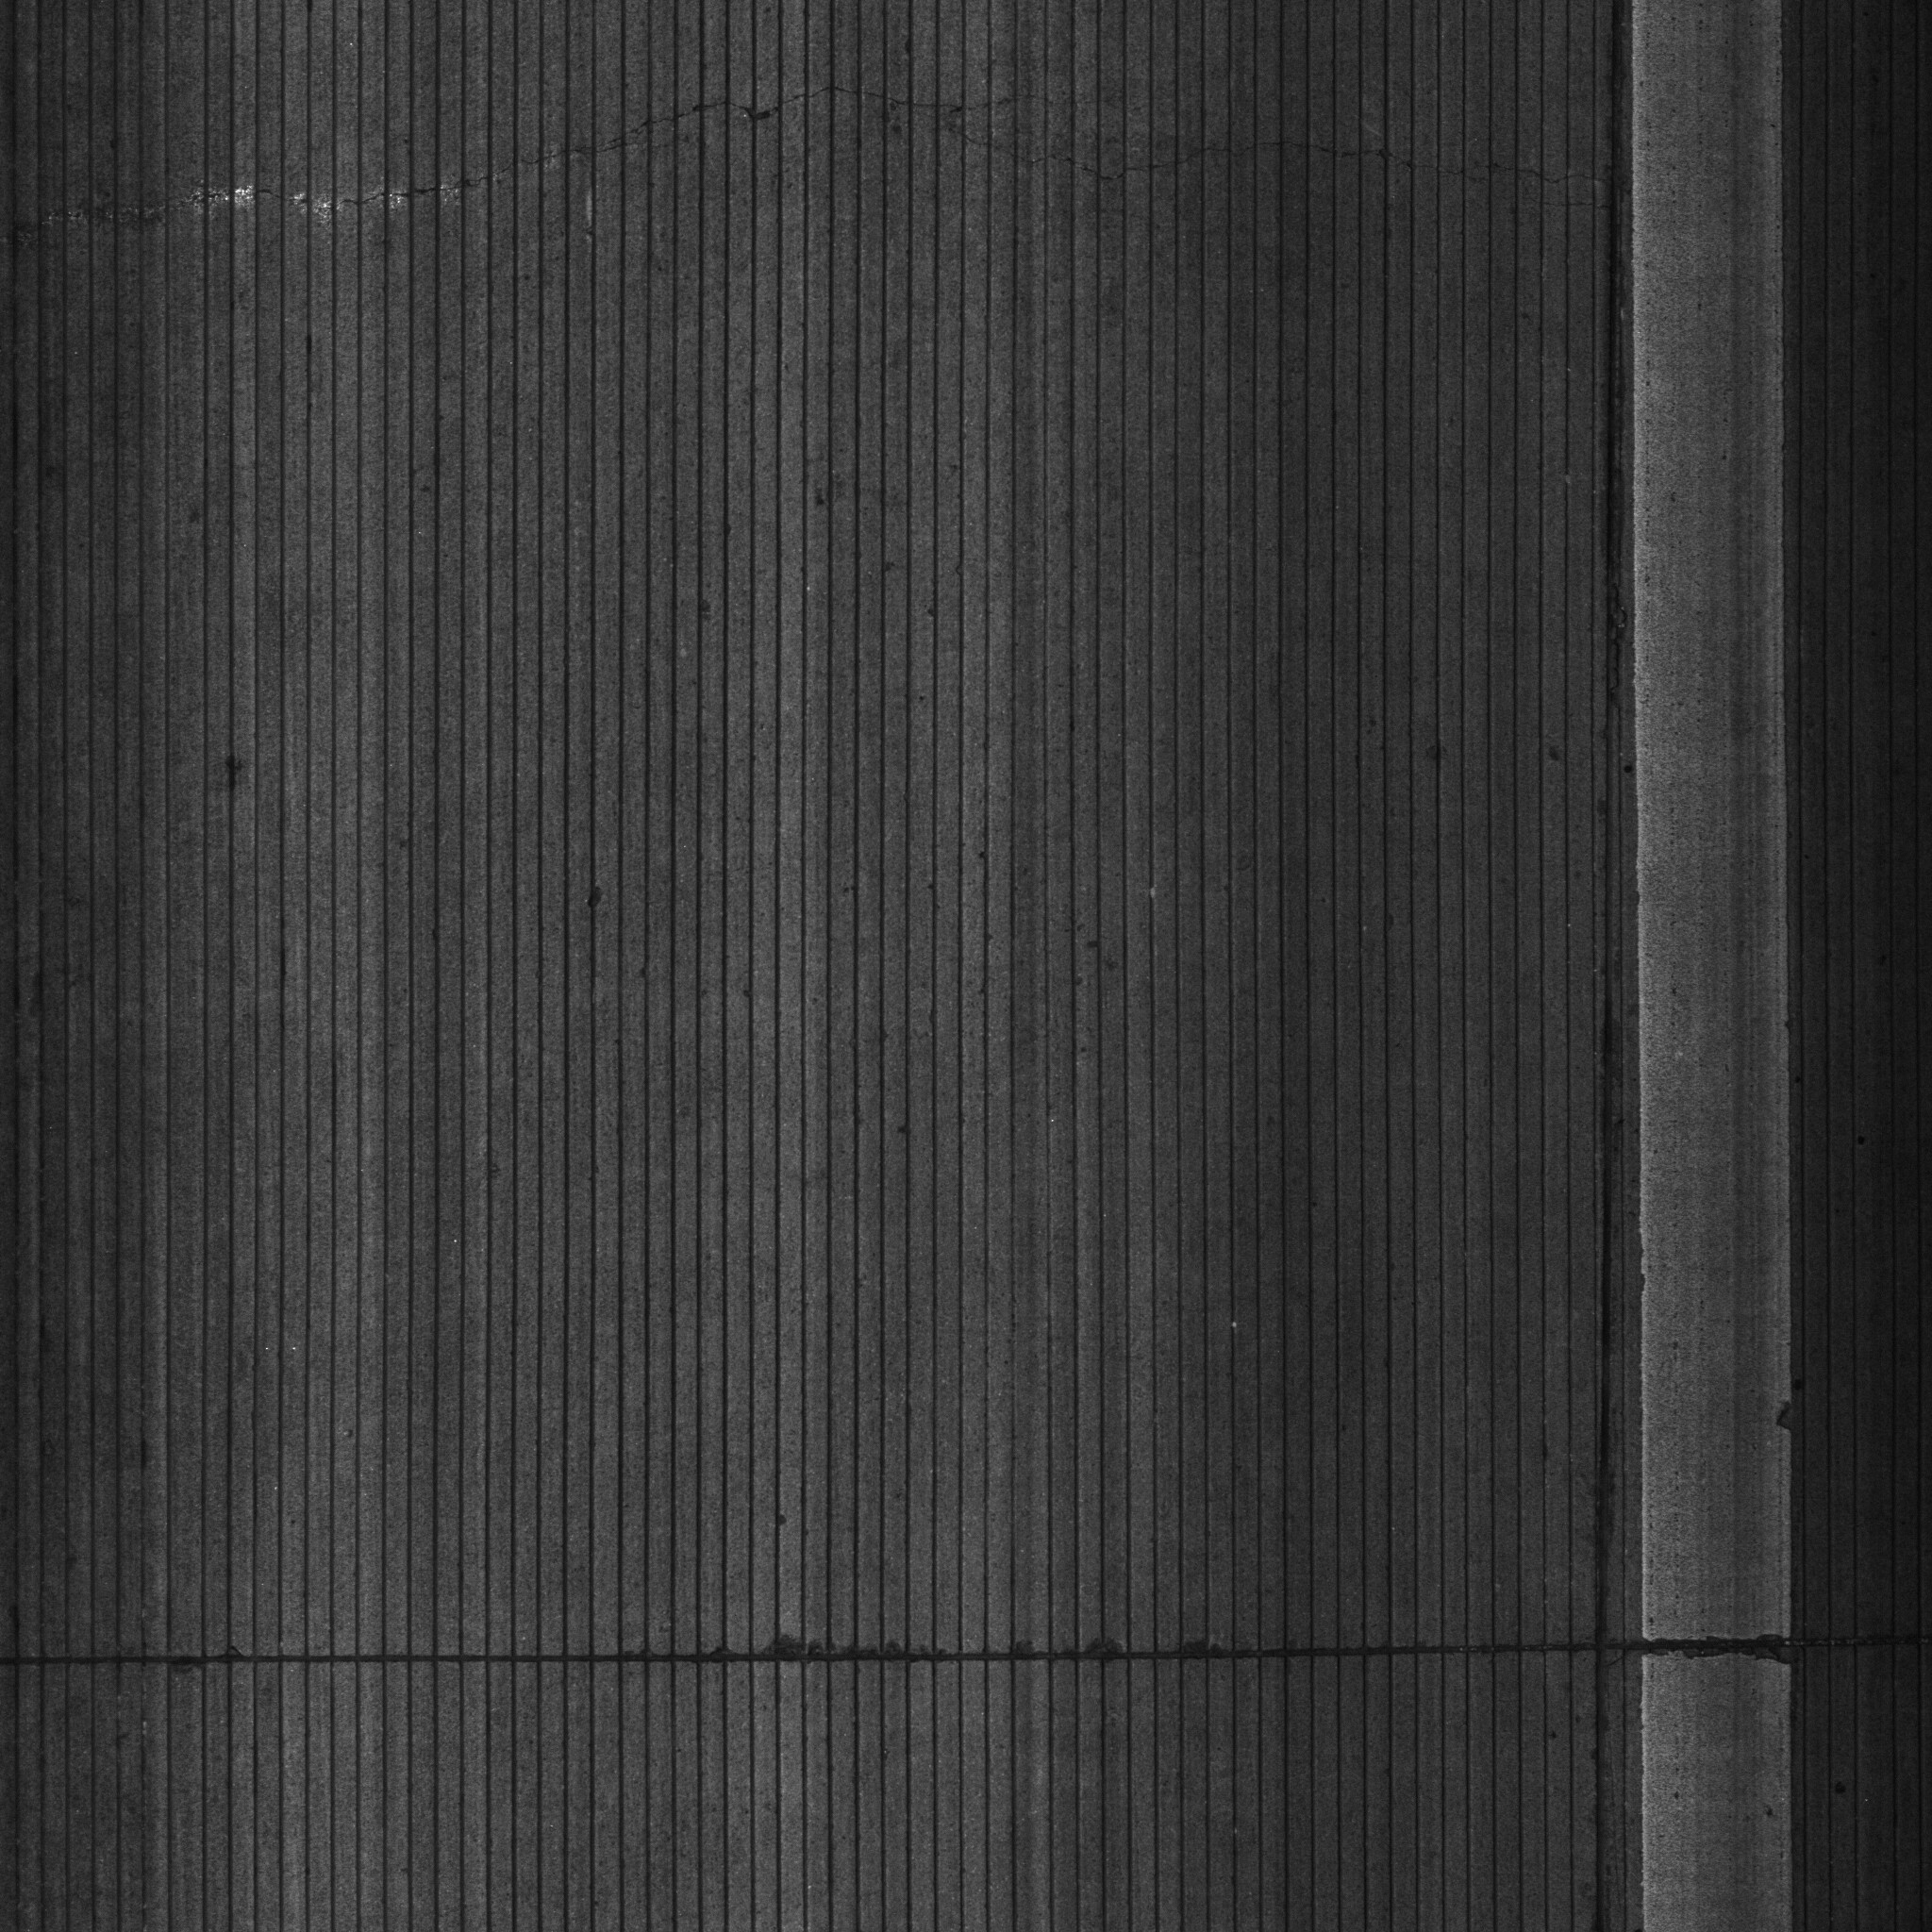transverse: (34, 87, 1626, 292)
